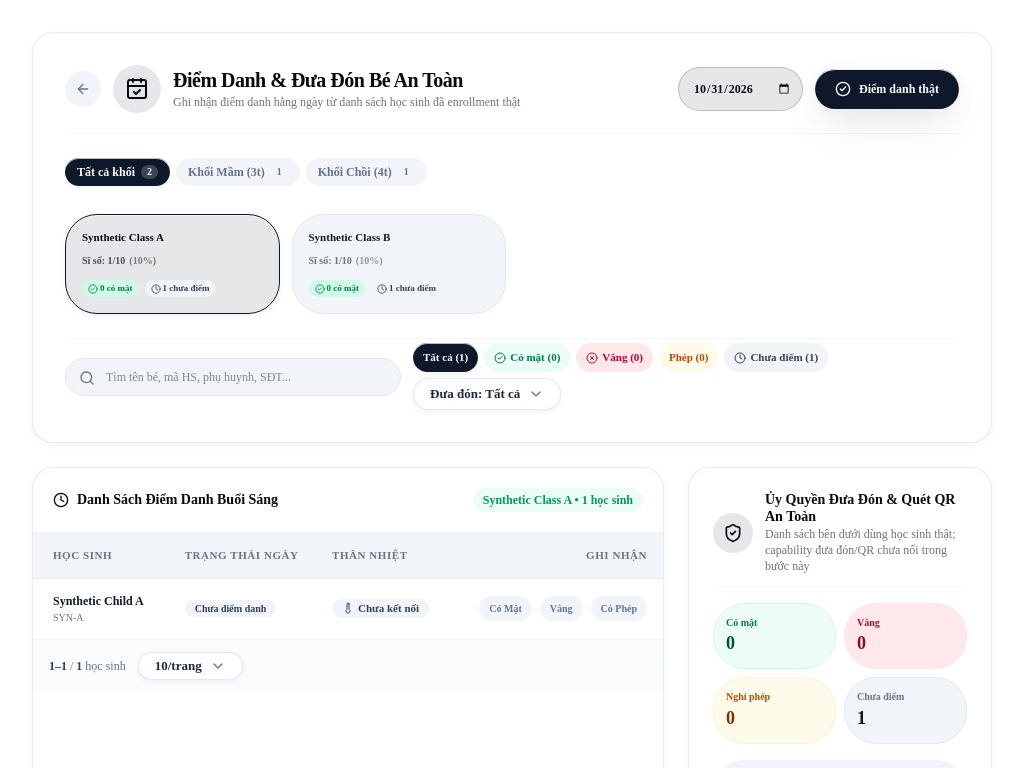
Test: requires canonical readback after a lost acknowledgement instead of offering a blind repeat write
The width and height of the screenshot is (1024, 768).
Click the button "Có Mặt": (506, 609) top-left (479, 596), bottom-right (532, 621)
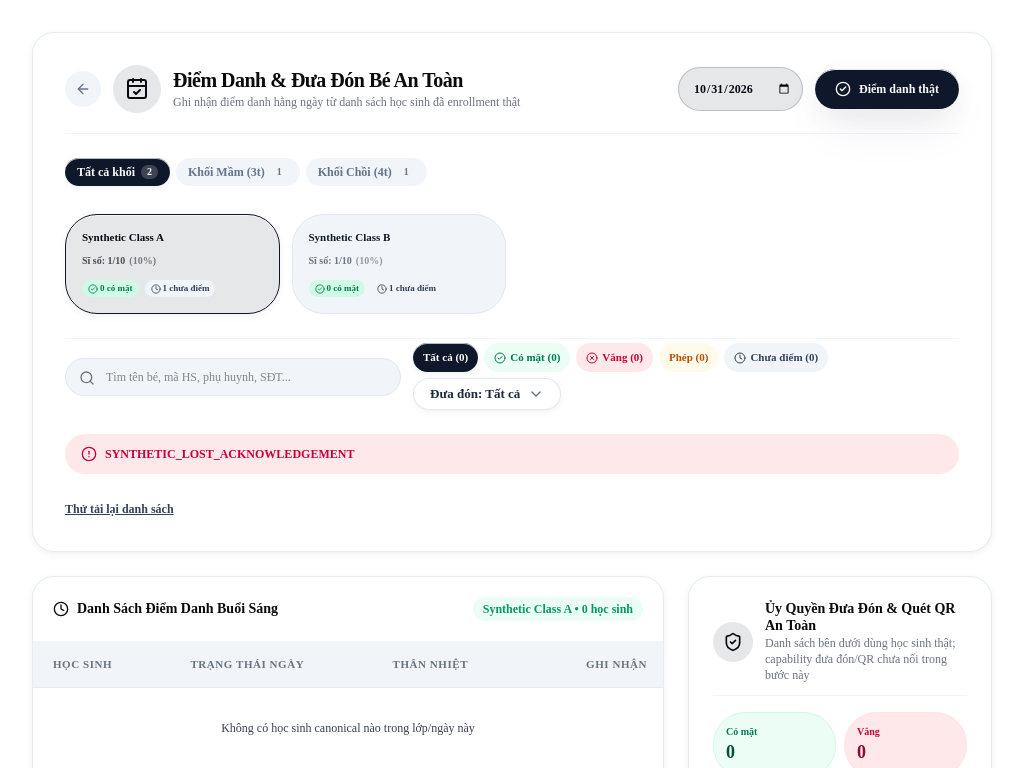
Expected: the message reads "SYNTHETIC_LOST_ACKNOWLEDGEMENT", top-left (105, 447), bottom-right (354, 461)
Expected: the text "Synthetic Child A" is not shown
Click the button "Thử tải lại danh sách": (119, 509) top-left (65, 501), bottom-right (174, 517)
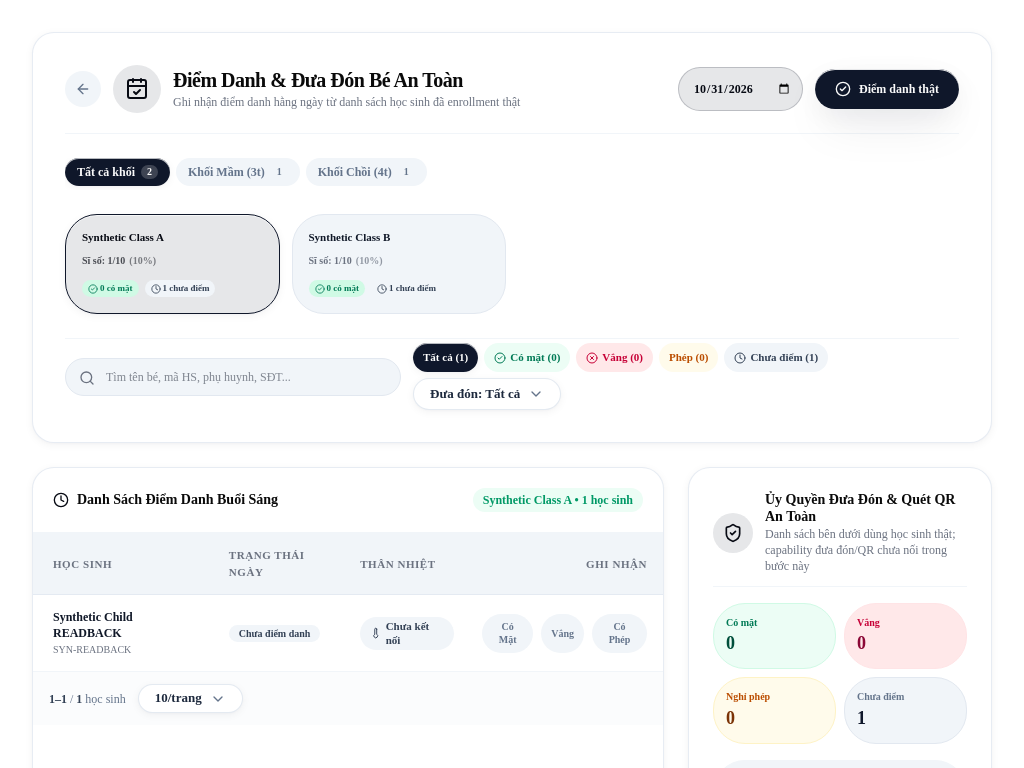
Expected: the text "Synthetic Child READBACK" is shown, top-left (53, 610), bottom-right (133, 640)
